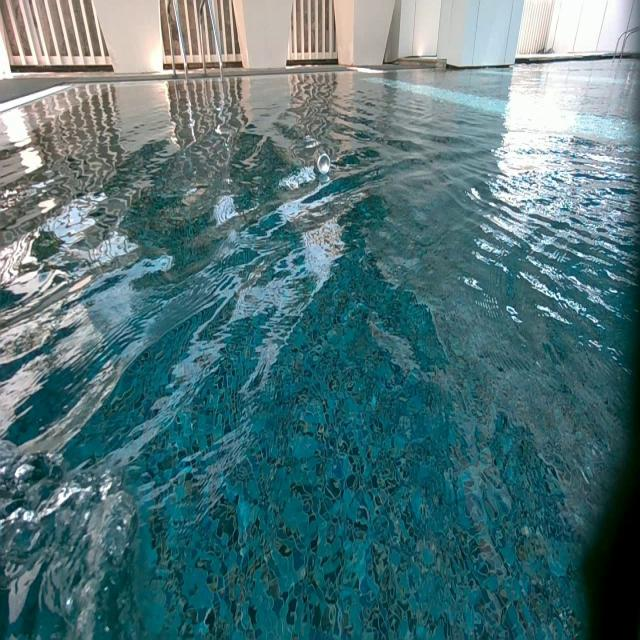Cans: (314, 149, 331, 175)
